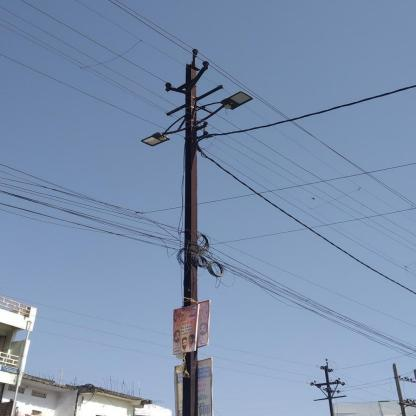Electrical Pole: (144, 42, 249, 416)
